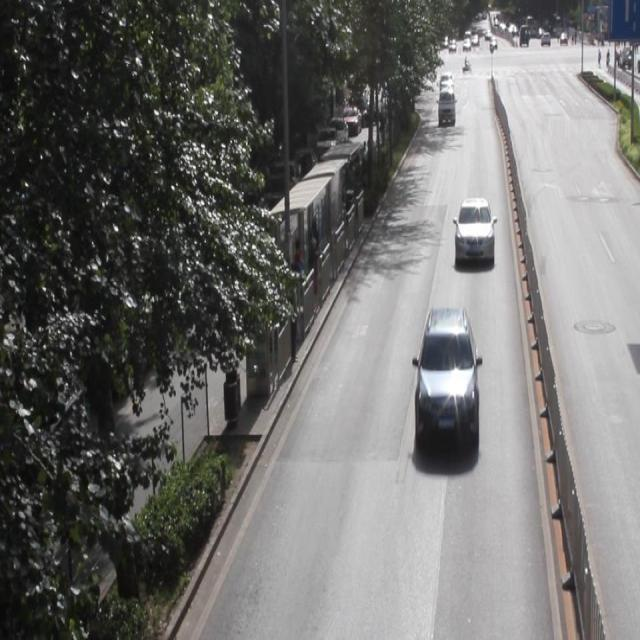car: (415, 308, 476, 445), (454, 198, 492, 264)
